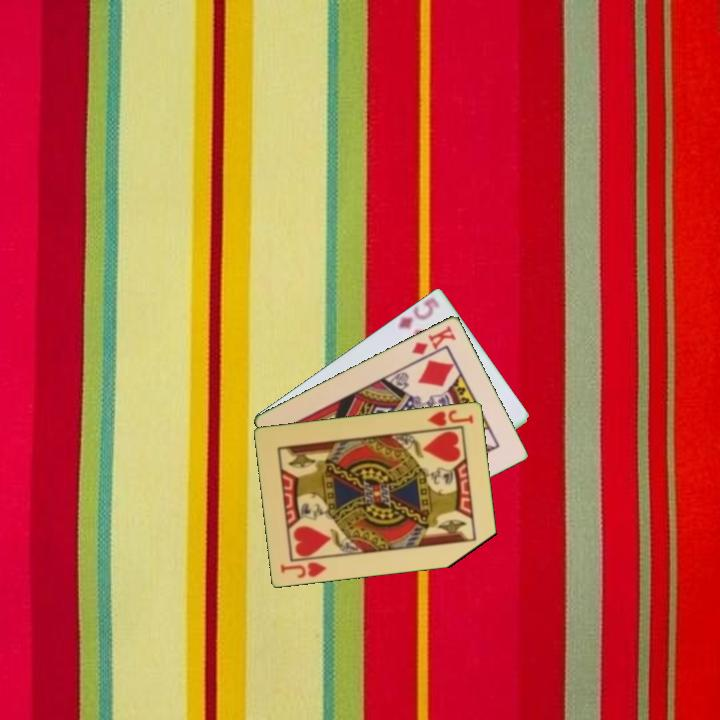5d: (394, 297, 440, 332)
Jh: (424, 406, 477, 429), (277, 558, 330, 581)
Kd: (408, 321, 459, 358)
